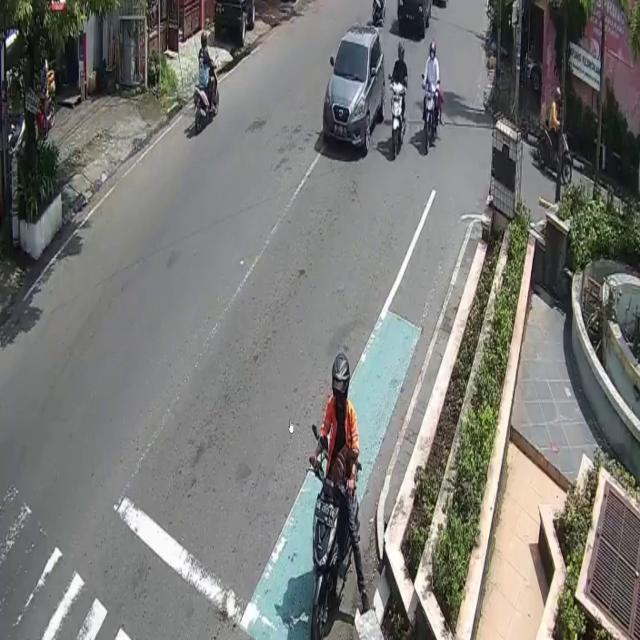bus: (312, 447, 359, 640), (536, 118, 574, 188), (193, 56, 220, 130), (391, 79, 406, 158), (424, 83, 440, 150)
motorcycle: (322, 23, 385, 153)
